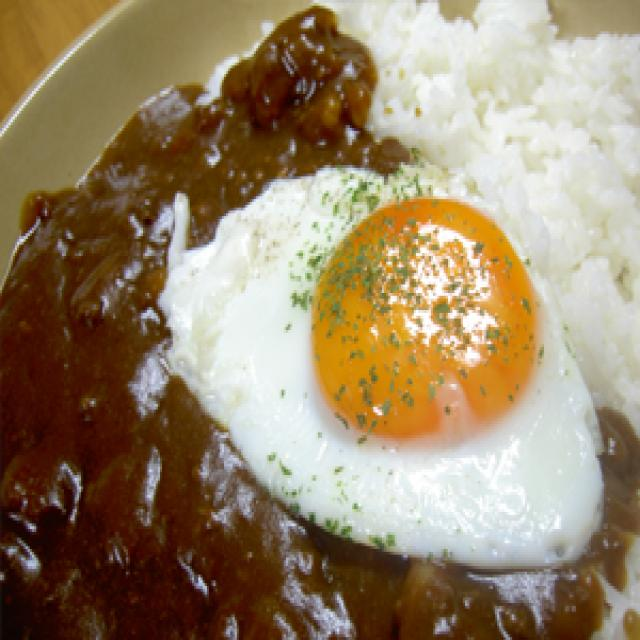鸡蛋料理: (147, 128, 634, 580)
